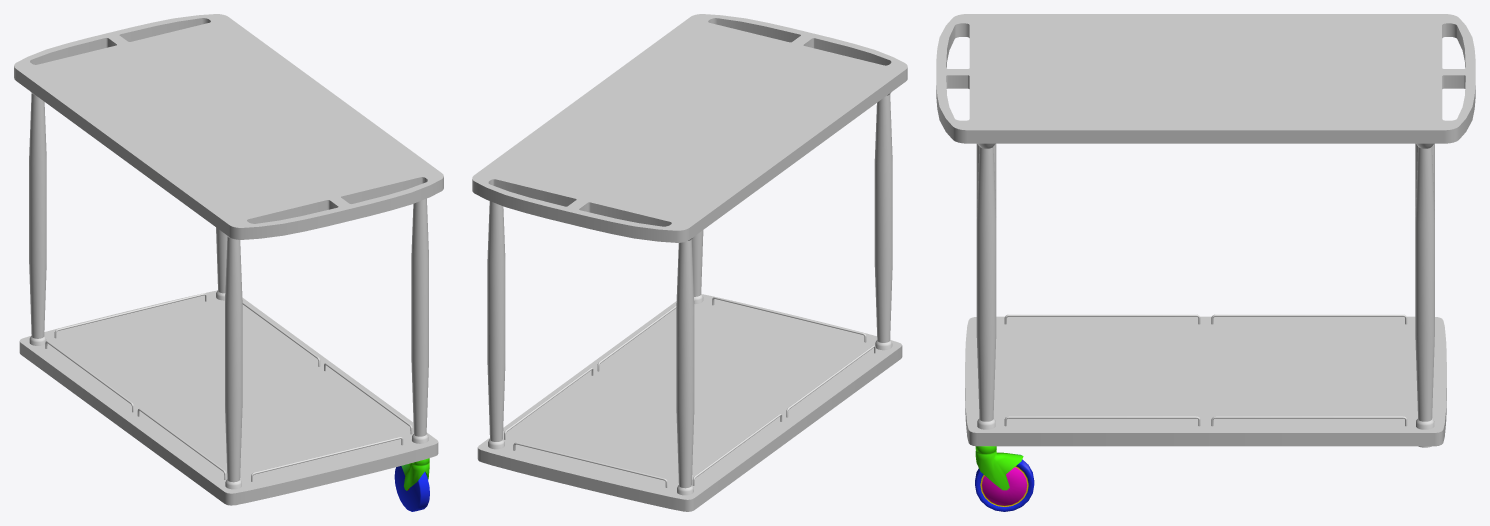
File: Service.fbx
3 renders of one model, left to right at view 1: azimuth 30°, elevation 25°; view 2: azimuth 150°, elevation 25°; view 3: azimuth 270°, elevation 25°, orthographic. The views are drawn at different scales.
Visible parts, largest first — view 1: plates, structure, pipes, wheel_1; view 2: plates, structure, pipes; view 3: plates, structure, wheel_1, pipes.
Boxes of the visible parts, <box> form: plates: <box>14,14,443,505</box>; structure: <box>29,91,428,505</box>; pipes: <box>45,293,412,481</box>; wheel_1: <box>394,458,429,511</box>; plates: <box>472,14,907,511</box>; structure: <box>487,93,892,495</box>; pipes: <box>504,297,875,487</box>; plates: <box>936,14,1475,446</box>; structure: <box>976,143,1434,447</box>; wheel_1: <box>975,446,1034,511</box>; pipes: <box>1004,314,1407,426</box>.
Size of the model in its own units: 56.1 by 87.01 by 110.
